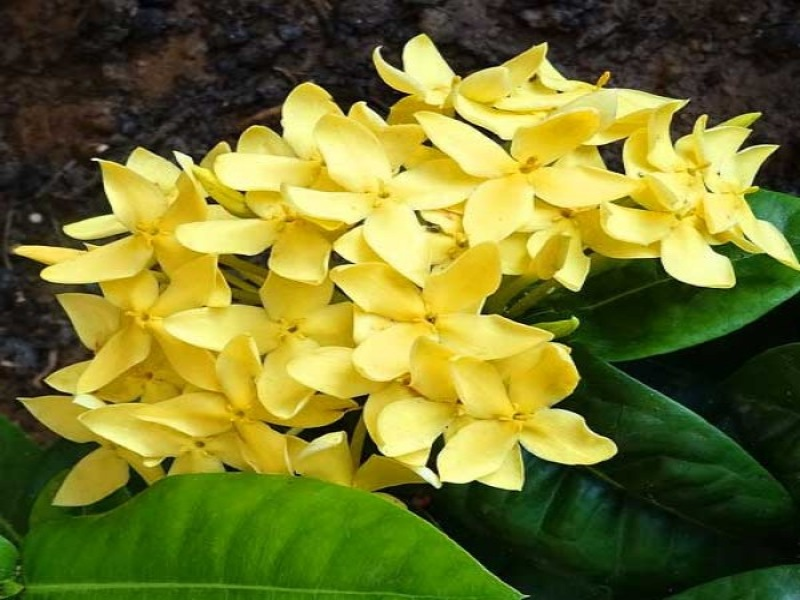Ixora: (15, 11, 800, 533)
